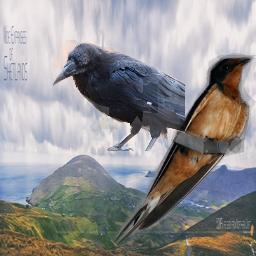Crow: (52, 40, 185, 151)
Swallow: (108, 52, 256, 245)
